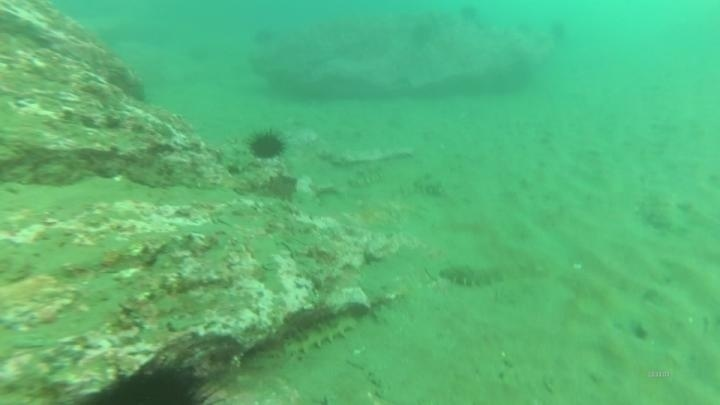echinus: (91, 355, 212, 404), (246, 127, 288, 162)
holothurian: (279, 309, 365, 361), (435, 259, 508, 292)
